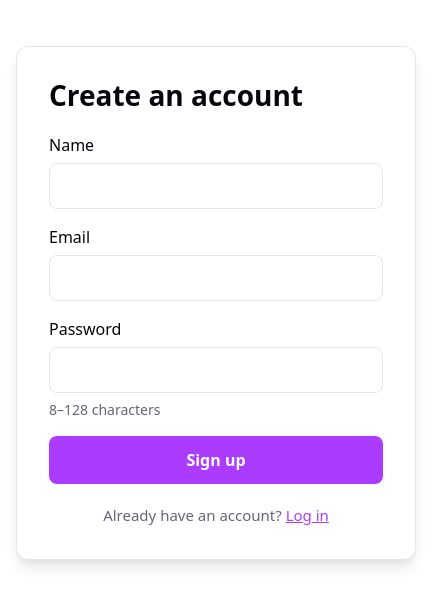
Scenario: SignupPage › shows a readable message in the alert region for RATE_LIMITED
This screenshot has width=433, height=616.
Expected: the heading "Create an account" is shown, [49, 76, 303, 114]
Type "Ada" into the field labelled "Name".
click(216, 186); type("Ada")  # box [49, 163, 383, 209]
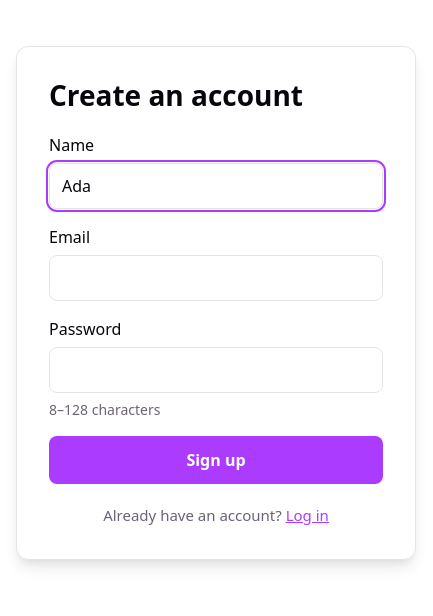
Type "ada@example.com" into the field labelled "Email".
click(216, 278); type("ada@example.com")  # box [49, 255, 383, 301]
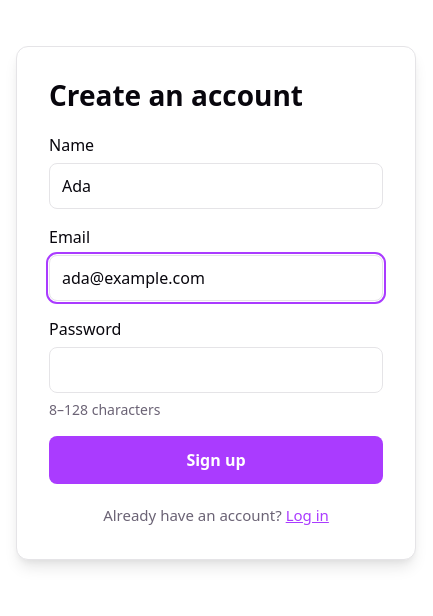
Type "password1" into the password field labelled "Password".
click(216, 370); type("password1")  # box [49, 347, 383, 393]
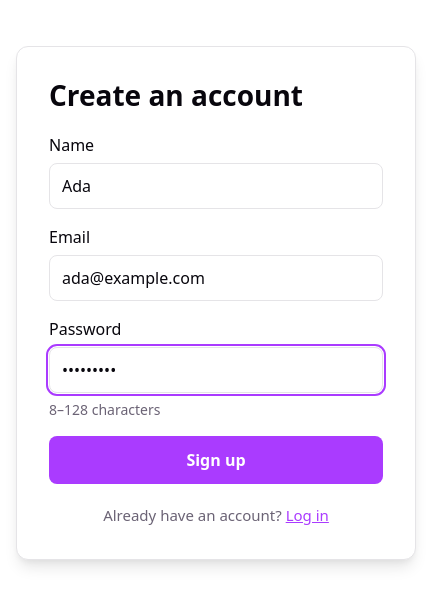
Click the button "Sign up".
click(216, 460)  # box [49, 436, 383, 484]
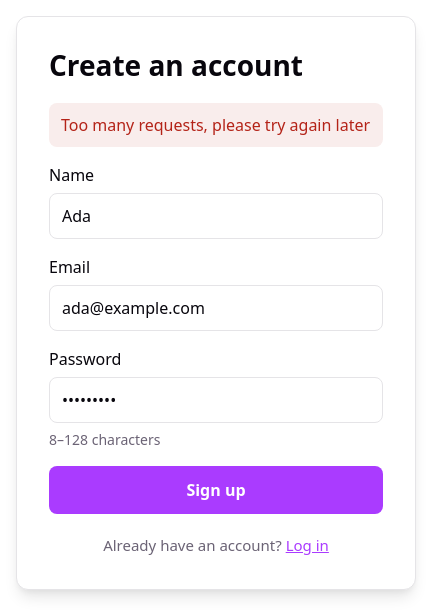
Expected: the button "Sign up" is enabled, [49, 466, 383, 514]
Result: the message reads "Too many requests, please try again later" at [61, 114, 370, 136]
